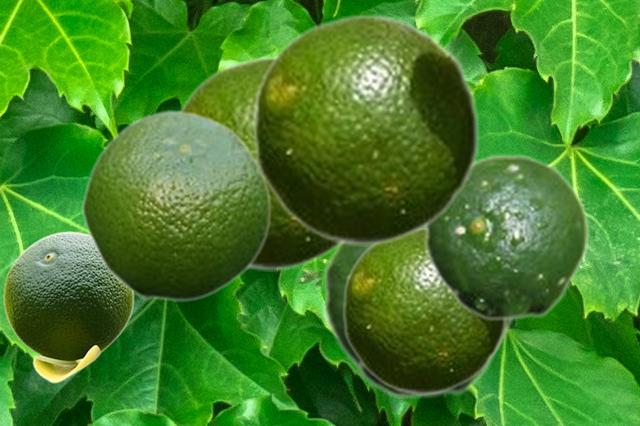calamansi: (251, 13, 480, 245), (80, 108, 271, 301), (176, 55, 343, 270), (322, 246, 516, 399), (423, 153, 589, 321), (341, 231, 507, 394), (3, 231, 133, 382)
